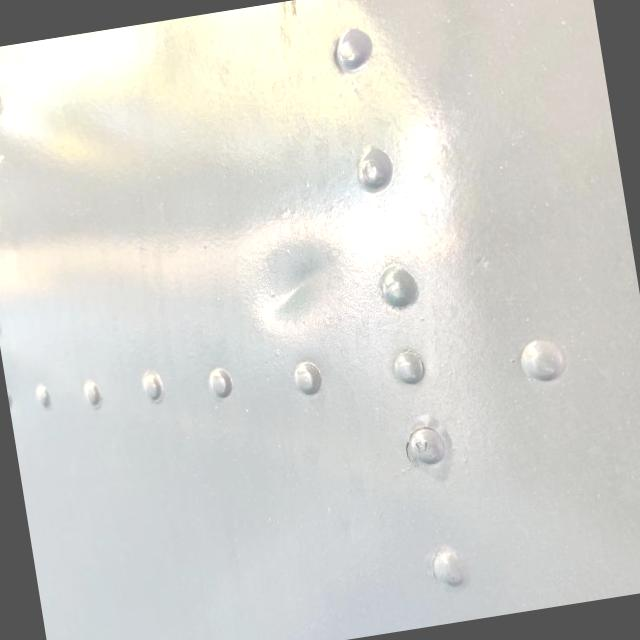dent: (238, 222, 367, 352)
